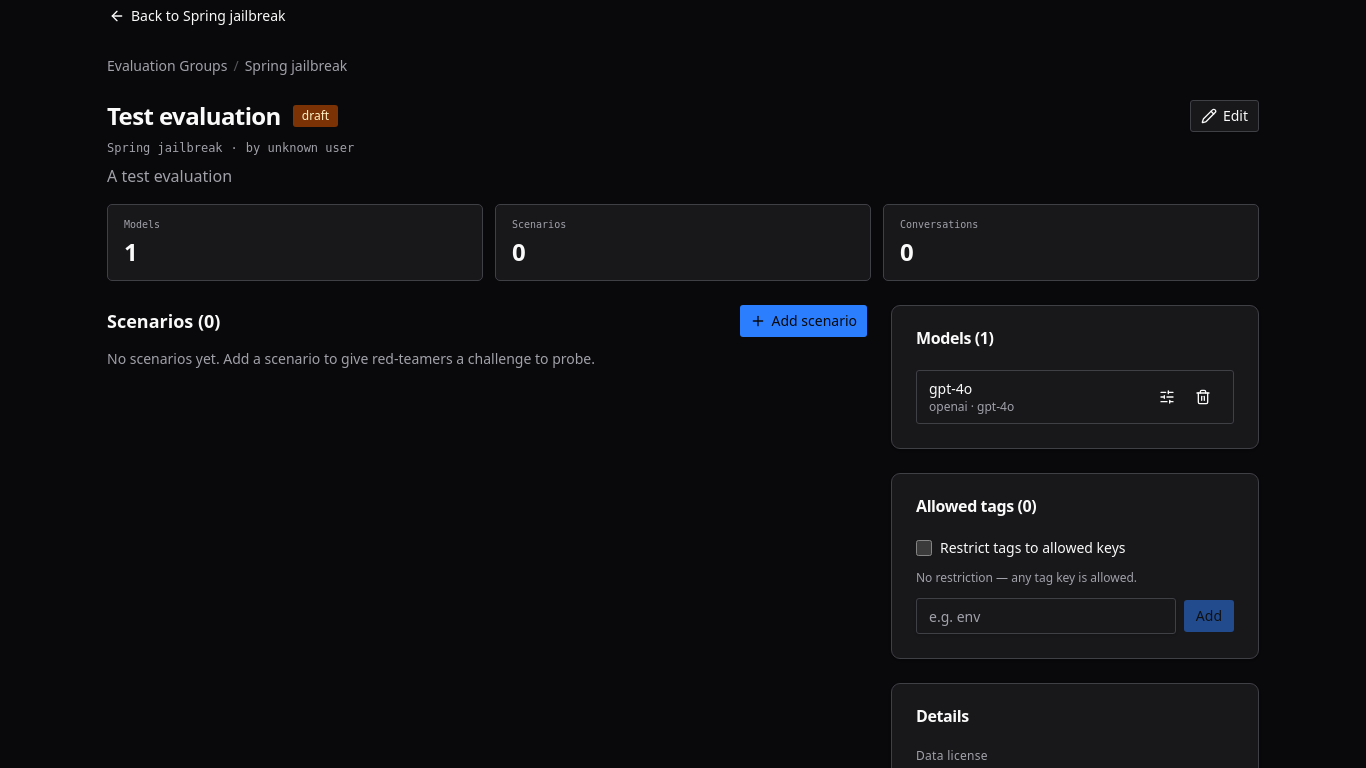
EvaluationDetailPage — edit model parameters › opens the edit dialog prefilled with the assignment mask and params
The width and height of the screenshot is (1366, 768).
Expected: the heading "Test evaluation" is shown, 107,100 -> 281,132
Click the button named "edit model parameters" at (1167, 397), box 1149,379 -> 1185,415
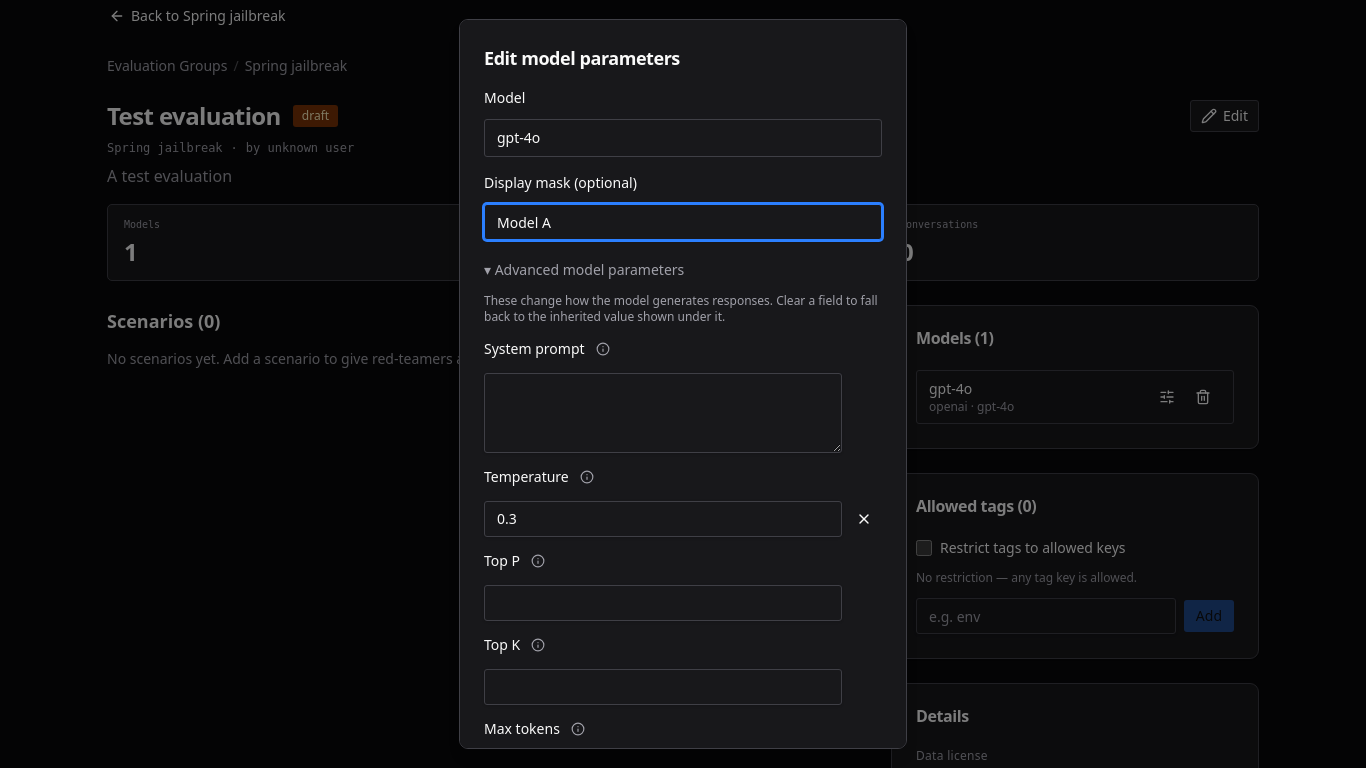
Expected: the heading "Edit model parameters" is shown, 484,46 -> 680,70
Expected: the field labelled "Display mask (optional)" holds "Model A", 484,204 -> 882,240
Expected: the number field labelled "Temperature" holds "0.3", 484,500 -> 842,536
